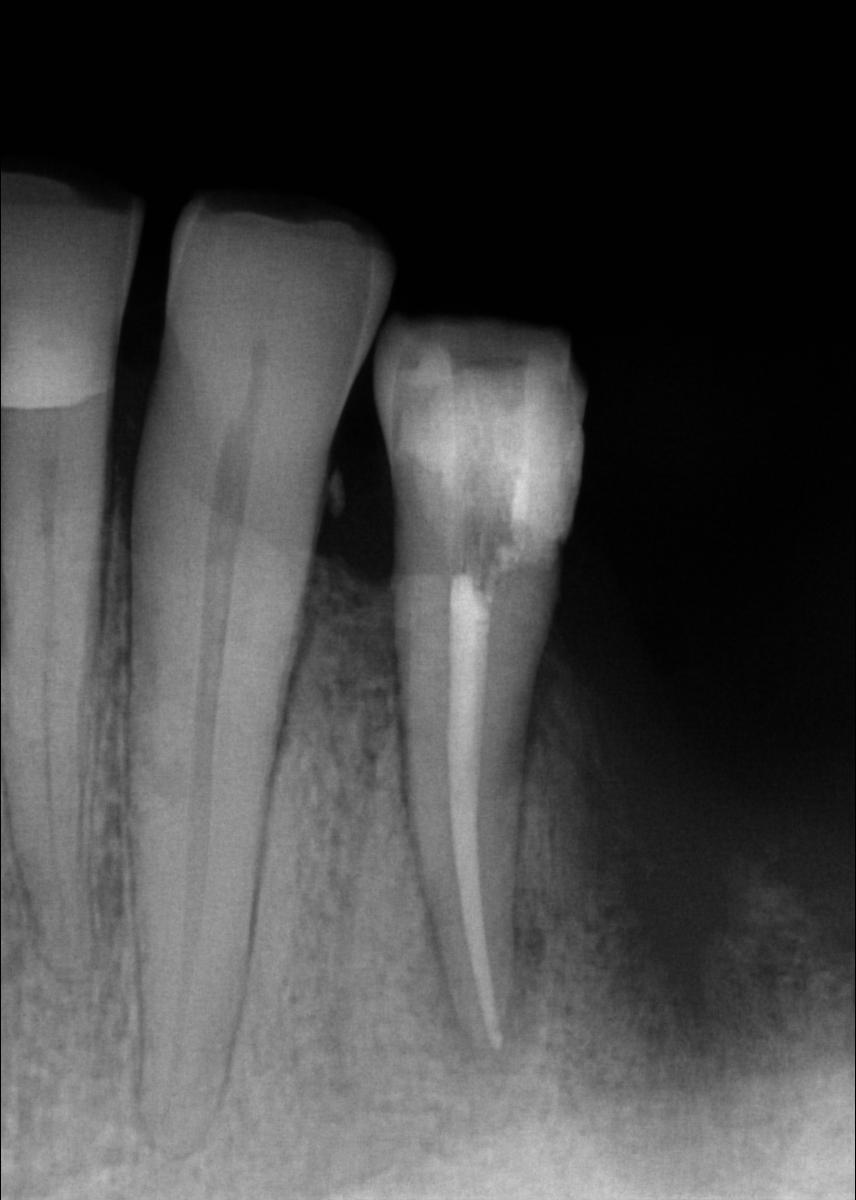Furcation Involvement: (418, 884, 552, 1076)
